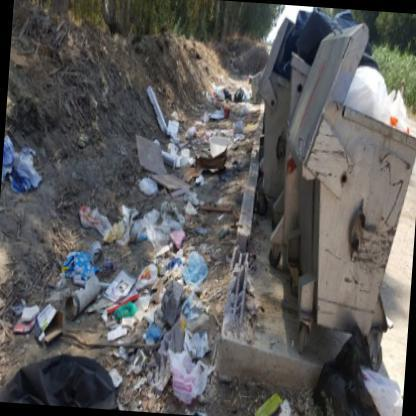Garbage: (113, 255, 223, 404), (28, 247, 120, 344), (134, 135, 205, 245), (346, 62, 415, 128), (320, 366, 405, 415), (209, 83, 252, 136)
